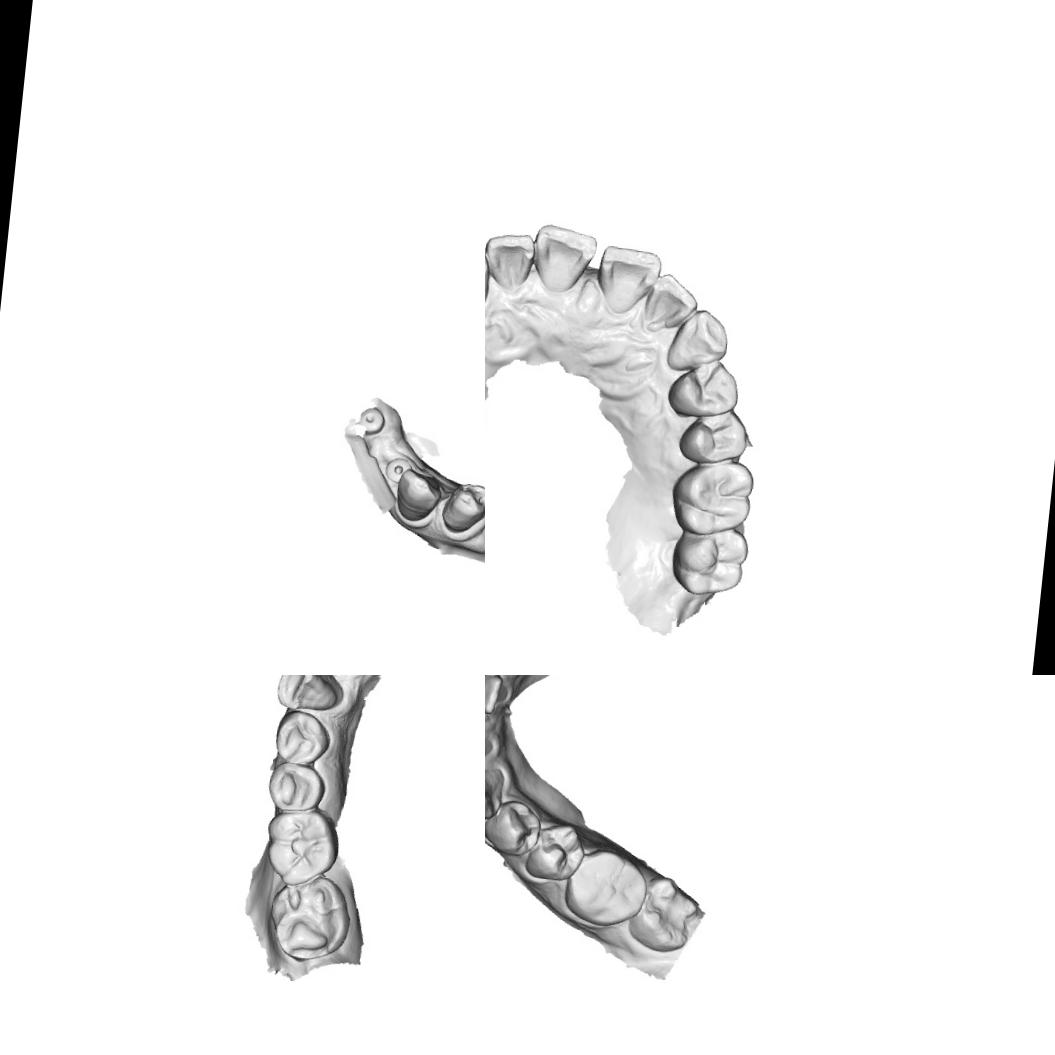canine: (664, 303, 734, 376), (392, 465, 444, 530), (273, 675, 343, 715), (485, 763, 506, 822)
implant: (356, 404, 387, 438), (382, 455, 414, 485)
incisor: (594, 242, 666, 319), (530, 220, 600, 296), (640, 270, 702, 336), (485, 227, 539, 294), (485, 675, 511, 716)
molar: (262, 869, 356, 966), (664, 454, 757, 540), (560, 844, 652, 930), (260, 804, 340, 891), (667, 524, 754, 602), (625, 872, 703, 956)
premolar: (664, 356, 743, 424), (675, 404, 752, 468), (522, 820, 588, 884), (271, 706, 334, 768), (485, 796, 544, 859), (262, 758, 326, 814), (438, 479, 485, 537)
